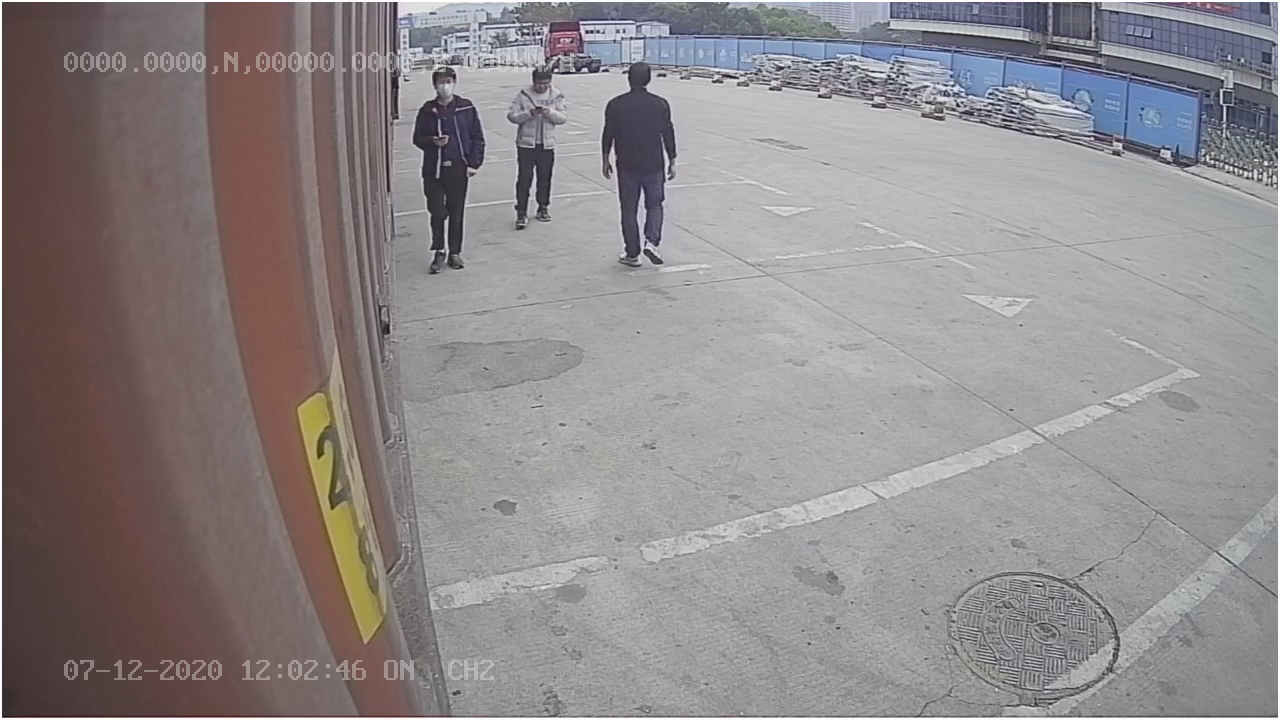person: (602, 64, 675, 273)
